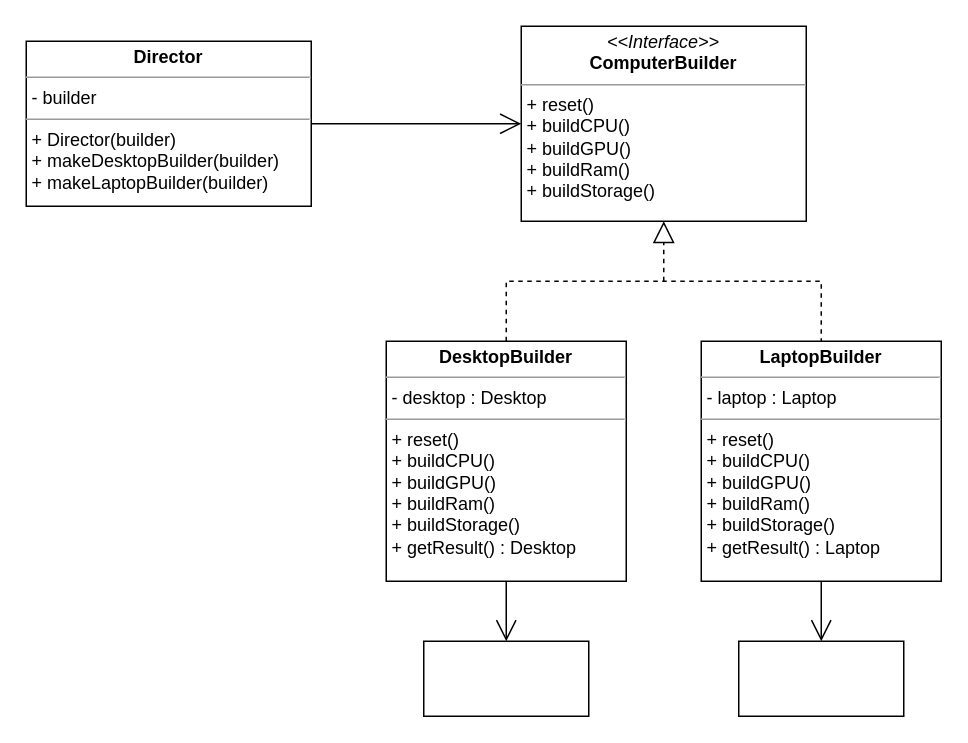
Some shapes in this 968 by 743 pixel diagram are drawn without their labels. The box of each missing label's shape, as (x1, y1, x2, y2) in pixels:
Desktop: (422, 640, 589, 716)
Laptop: (737, 640, 904, 716)
